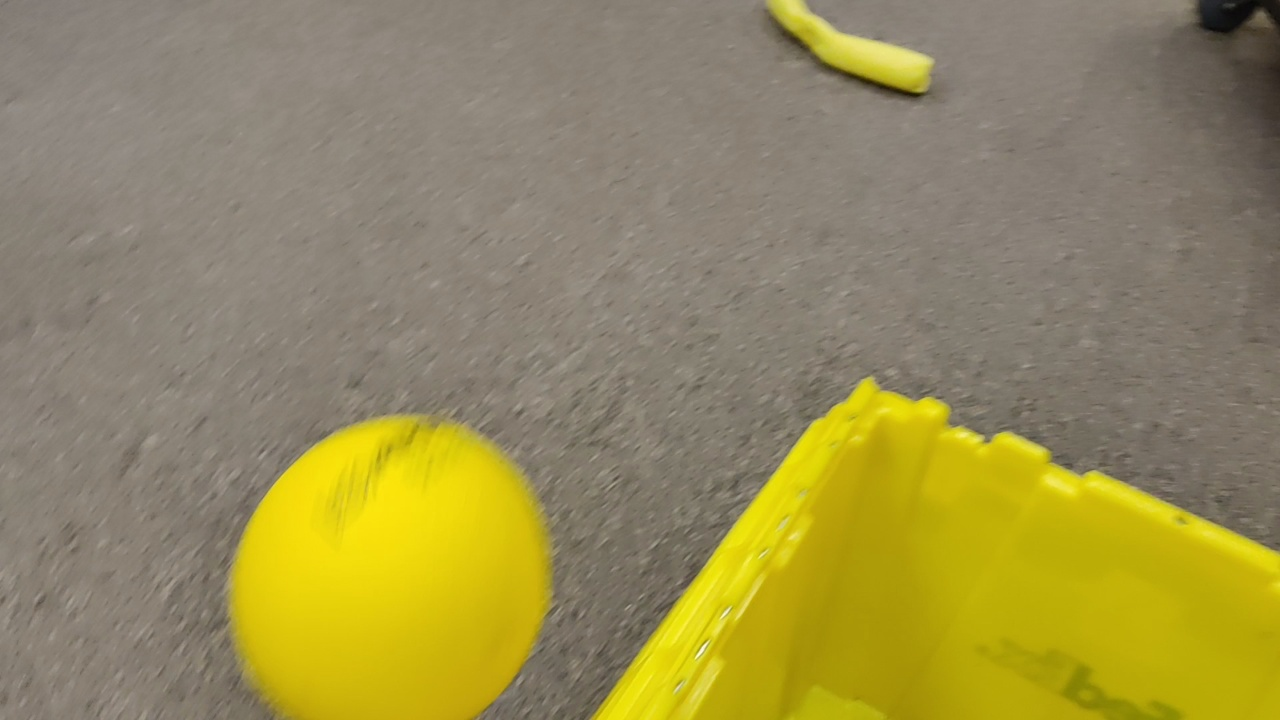Ball: (230, 416, 553, 717)
